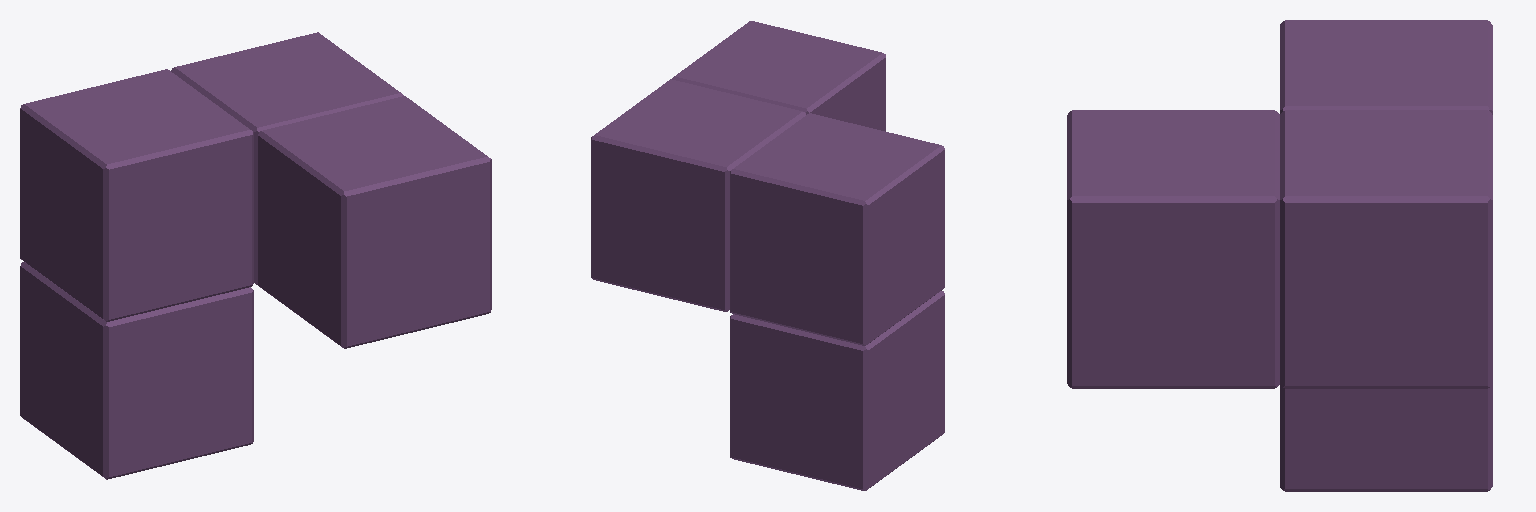
The robot description file, URDF, robot "purple_block":
<?xml version="1.0"?>
<robot name="purple_block">
	<link name="base_link">
		<visual>
			<geometry>
				<mesh filename="package://irsl_sim_environments/urdf/puzzle_blocks/purple_block/purple_block_base_link.dae" />
			</geometry>
		</visual>
		<collision>
			<origin xyz="0.000000000000e+00 0.000000000000e+00 0.000000000000e+00" rpy="0.000000000000e+00 -0.000000000000e+00 0.000000000000e+00" />
			<geometry>
				<box size="3.000000000000e-02 3.000000000000e-02 3.000000000000e-02" />
			</geometry>
		</collision>
		<collision>
			<origin xyz="0.000000000000e+00 0.000000000000e+00 3.000000000000e-02" rpy="0.000000000000e+00 -0.000000000000e+00 0.000000000000e+00" />
			<geometry>
				<box size="3.000000000000e-02 3.000000000000e-02 3.000000000000e-02" />
			</geometry>
		</collision>
		<collision>
			<origin xyz="3.000000000000e-02 0.000000000000e+00 3.000000000000e-02" rpy="0.000000000000e+00 -0.000000000000e+00 0.000000000000e+00" />
			<geometry>
				<box size="3.000000000000e-02 3.000000000000e-02 3.000000000000e-02" />
			</geometry>
		</collision>
		<collision>
			<origin xyz="3.000000000000e-02 -3.000000000000e-02 3.000000000000e-02" rpy="0.000000000000e+00 -0.000000000000e+00 0.000000000000e+00" />
			<geometry>
				<box size="3.000000000000e-02 3.000000000000e-02 3.000000000000e-02" />
			</geometry>
		</collision>
		<inertial>
			<mass value="0.021599999999999998" />
			<origin xyz="1.500000000000e-02 -7.500000000000e-03 2.250000000000e-02" />
			<inertia ixx="1.0529999999999997e-05" ixy="2.4299999999999996e-06" ixz="-2.4299999999999996e-06" iyy="1.1744999999999997e-05" iyz="1.2149999999999998e-06" izz="1.1744999999999997e-05" />
		</inertial>
	</link>
</robot>

--- What the picture shows (computed from the rendered views, not written in the file) ---
The picture shows the robot from 3 angles, left to right: view 1: azimuth 30°, elevation 25°; view 2: azimuth 150°, elevation 25°; view 3: azimuth 270°, elevation 25°; orthographic projection.
Model purple_block with 1 links and 0 joints (none), rooted at base_link, posed every joint at zero.
Links seen in each view (by area): view 1: base_link; view 2: base_link; view 3: base_link.
Boxes of the visible links, <box> form: base_link: <box>20,32,491,479</box>; base_link: <box>591,21,944,490</box>; base_link: <box>1067,20,1492,491</box>.
Size in the robot's own frame: 0.06 by 0.06 by 0.06 metres.
1 mesh visuals loaded from 1 distinct referenced files (1 Collada DAE).